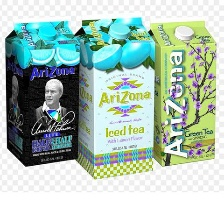carton: (74, 14, 159, 179), (3, 14, 82, 170), (152, 14, 220, 164)
